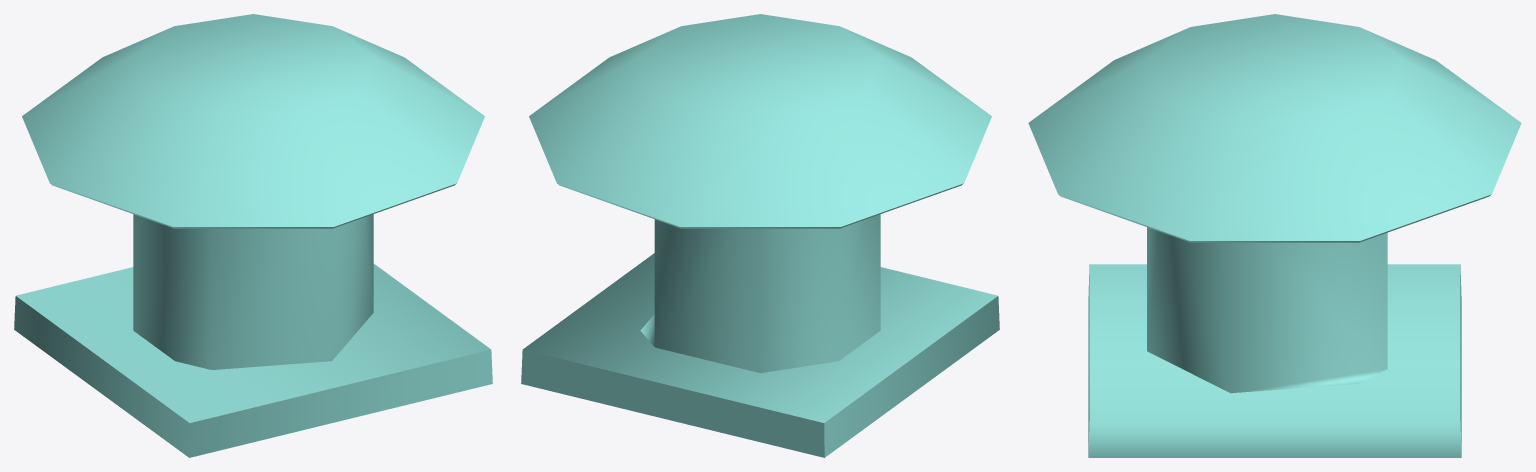
File: VintilTop1_Collision.fbx
3 views of the same model, side by side, from view 1: azimuth 30°, elevation 25°; view 2: azimuth 150°, elevation 25°; view 3: azimuth 270°, elevation 25° (orthographic). The views are drawn at different scales.
Parts seen in each view (by area): view 1: VintilTop1_Collision; view 2: VintilTop1_Collision; view 3: VintilTop1_Collision.
Part boxes in pixels (x1,y1,x2,y2): VintilTop1_Collision: [14, 14, 492, 457]; VintilTop1_Collision: [521, 14, 999, 457]; VintilTop1_Collision: [1028, 14, 1521, 457].
Size of the model in its own units: 0.9483 by 0.667 by 0.963.
